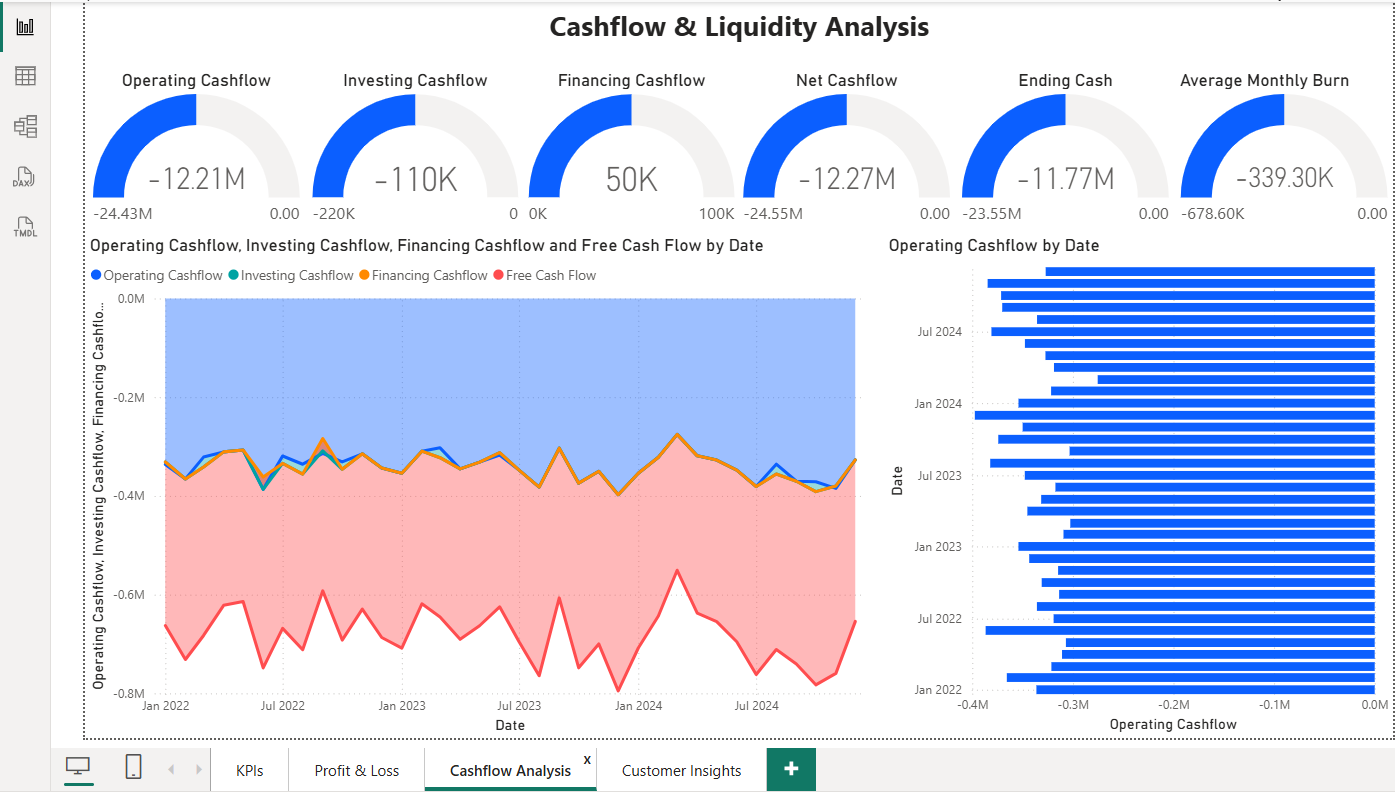

This screenshot's page, from the dashboard's own definition file:
{"tool":"powerbi","page":{"name":"Cashflow Analysis","canvas":[1280,720],"ordinal":2},"visuals":[{"type":"gauge","title":"Operating Cashflow","fields":{"Y":["Sum(Cashflow.OperatingCashflow)"]},"box":[0,65.9,218.2,161.9],"z":0},{"type":"gauge","title":"Investing Cashflow","fields":{"Y":["Sum(Cashflow.InvestingCashflow)"]},"box":[218.2,65.9,211.3,161.9],"z":1000},{"type":"gauge","fields":{"Y":["Sum(Cashflow.FinancingCashflow)"]},"box":[429.5,65.9,211.3,161.9],"z":2000},{"type":"gauge","fields":{"Y":["Sum(Cashflow.NetCashflow)"]},"box":[638.1,65.9,214.1,161.9],"z":3000},{"type":"gauge","fields":{"Y":["Cashflow.Ending Cash"]},"box":[852.1,65.9,214.1,161.9],"z":4000},{"type":"stackedAreaChart","fields":{"Y":["Sum(Cashflow.OperatingCashflow)","Sum(Cashflow.InvestingCashflow)","Sum(Cashflow.FinancingCashflow)","Cashflow.Free Cash Flow"],"Category":["Date.Date"]},"box":[0,227.8,780.8,492.6],"z":5000},{"type":"textbox","box":[0,0,1280.3,65.9],"z":6000},{"type":"clusteredBarChart","fields":{"Category":["Date.Date"],"Y":["Cashflow.Operating Cashflow"]},"box":[780.8,227.8,499.5,492.6],"z":7000},{"type":"gauge","fields":{"Y":["Cashflow.Average Monthly Burn"]},"box":[1066.2,65.9,214.1,161.9],"z":8000}]}

Visuals, with their boxes on the page's 1280x720 design canvas (x1, y1, x2, y2). These are canvas units, not pixel positions in the 1395x792 screenshot, which may show the page scaled, cropped or inside an application window:
"Operating Cashflow" gauge: <region>0, 66, 218, 228</region>
"Investing Cashflow" gauge: <region>218, 66, 430, 228</region>
gauge - Sum(Cashflow.FinancingCashflow): <region>430, 66, 641, 228</region>
gauge - Sum(Cashflow.NetCashflow): <region>638, 66, 852, 228</region>
gauge - Cashflow.Ending Cash: <region>852, 66, 1066, 228</region>
stackedAreaChart - Sum(Cashflow.OperatingCashflow) x Sum(Cashflow.InvestingCashflow): <region>0, 228, 781, 720</region>
textbox: <region>0, 0, 1280, 66</region>
clusteredBarChart - Date.Date x Cashflow.Operating Cashflow: <region>781, 228, 1280, 720</region>
gauge - Cashflow.Average Monthly Burn: <region>1066, 66, 1280, 228</region>
